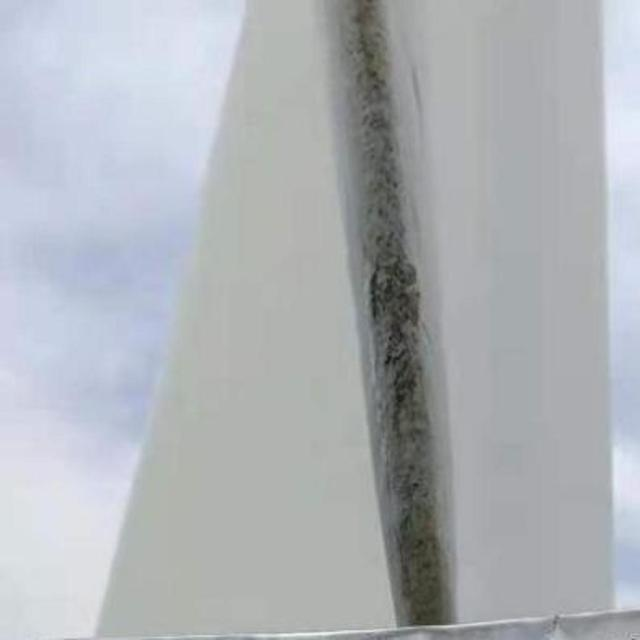corrosion: (336, 5, 451, 618)
